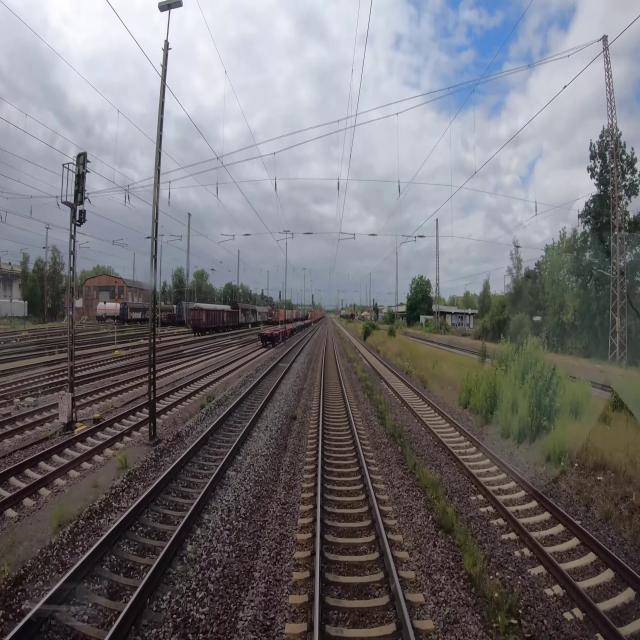Plant: (457, 353, 596, 467), (354, 358, 416, 471), (463, 533, 521, 639), (369, 332, 429, 387), (416, 467, 456, 531), (49, 497, 66, 534), (337, 329, 356, 360), (453, 520, 468, 546), (362, 321, 381, 341), (199, 392, 217, 410), (114, 448, 128, 467), (477, 349, 487, 365), (387, 327, 397, 338)
